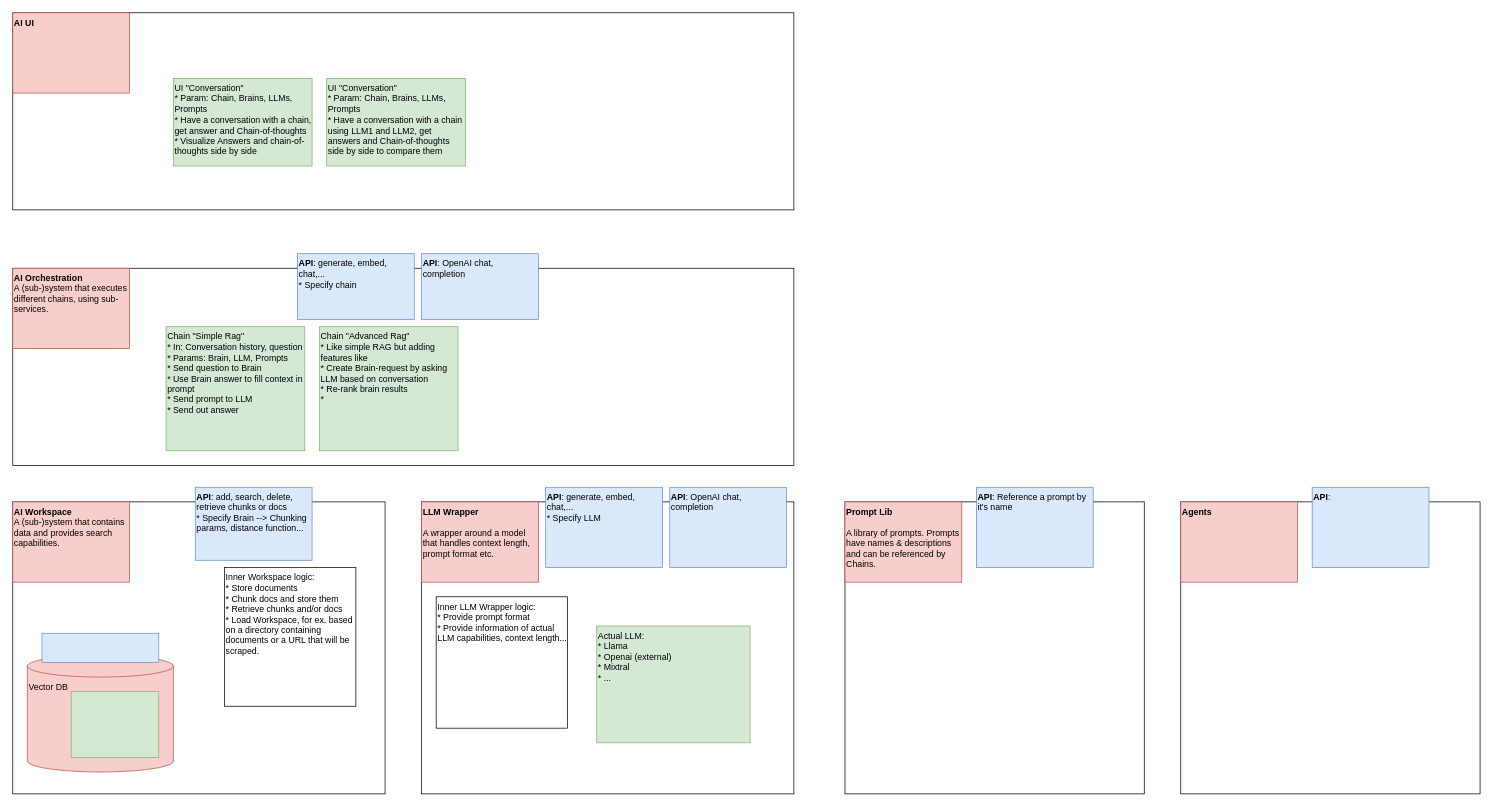
The diagram is 1493 pixels wide and 807 high, and some of its shapes have lost their labels. Here are the shapes that lost their labels. From the top down, the centre of each, then its label:
At (100,647): "API : add, search with distance function, delete".
At (114,724): "Vector DB implementation: * Milvus * Chroma * ...".
